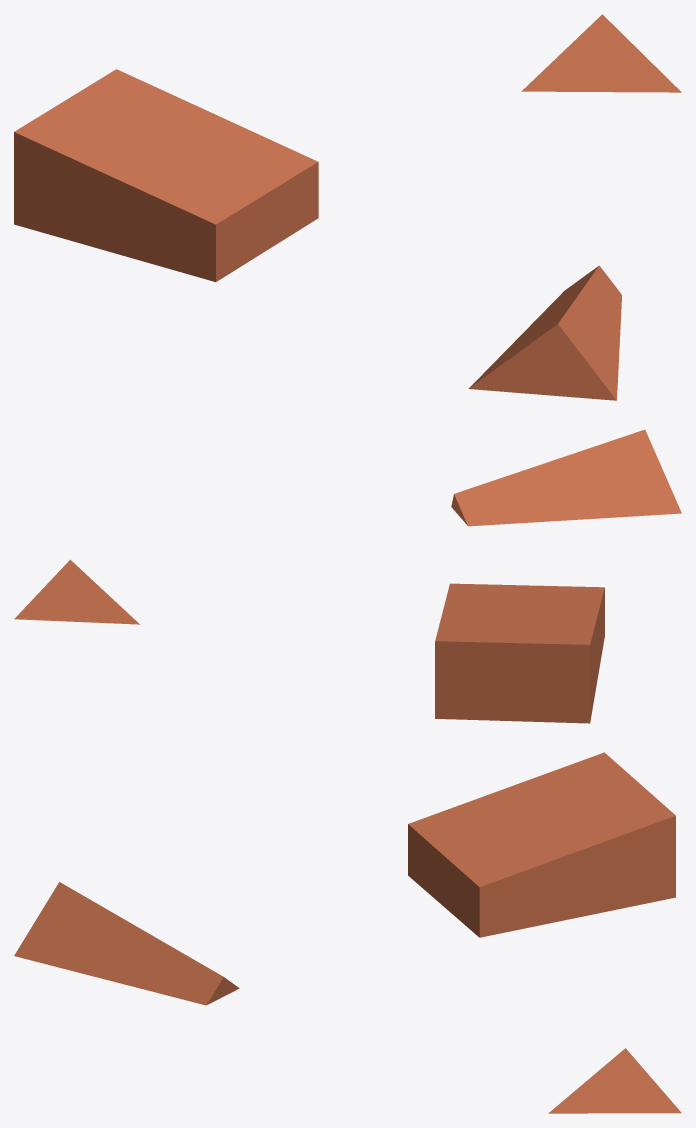
Rendered from Brick_Pile_s_01.fbx.
3 views of the same model, one above another, from view 1: azimuth 30°, elevation 25°; view 2: azimuth 150°, elevation 25°; view 3: azimuth 270°, elevation 25° (orthographic). The views are drawn at different scales.
Parts seen in each view (by area): view 1: Brick_Pile_s_01; view 2: Brick_Pile_s_01; view 3: Brick_Pile_s_01.
Part boxes in pixels (x1,y1,x2,y2): Brick_Pile_s_01: (14,14,681,400); Brick_Pile_s_01: (14,429,681,723); Brick_Pile_s_01: (14,752,681,1113).
Bounding box in the file's own units: 30.13 × 4.28 × 30.59.
